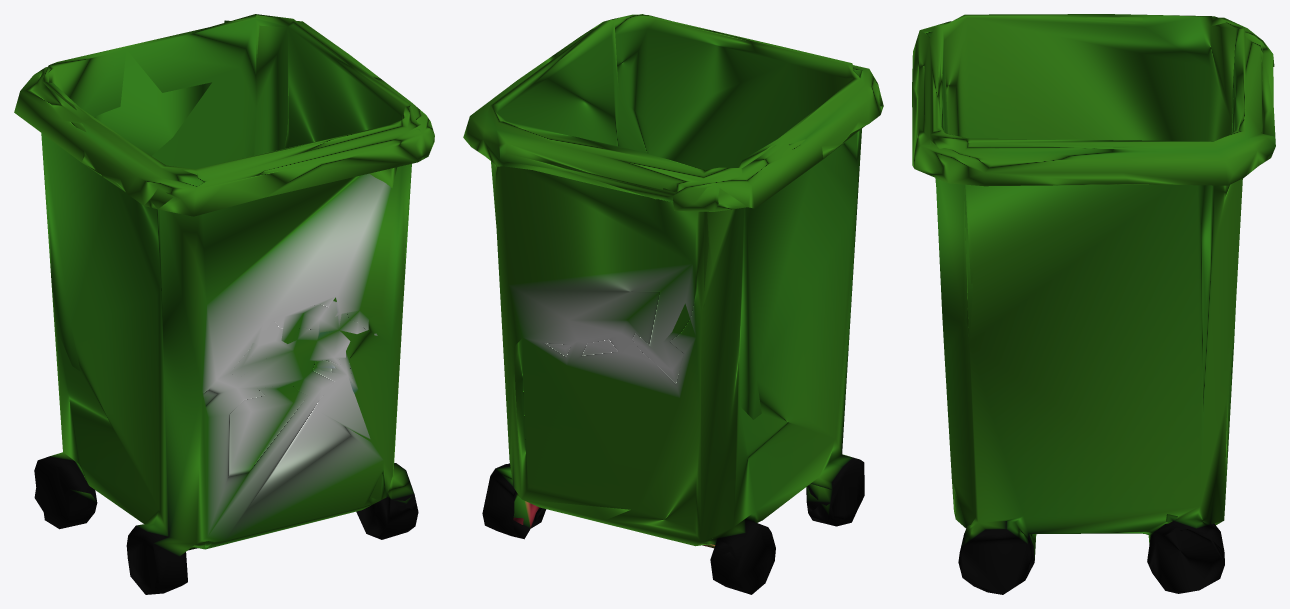
File: gen3d-recycling-bin-lod1.glb
3 renders of one model, left to right at view 1: azimuth 30°, elevation 25°; view 2: azimuth 150°, elevation 25°; view 3: azimuth 270°, elevation 25°, orthographic. The views are drawn at different scales.
Parts seen in each view (by area): view 1: part_0; view 2: part_0; view 3: part_0.
Boxes of the visible parts, box(x1,y1,x2,y2) form: part_0: box(14, 14, 434, 594); part_0: box(463, 14, 883, 594); part_0: box(912, 14, 1275, 594).
Size of the model in its own units: 0.7043 by 0.9998 by 0.7282.
